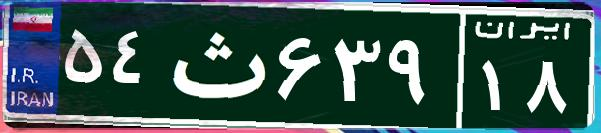1: (475, 38, 525, 113)
3: (330, 28, 385, 110)
4: (110, 28, 158, 105)
5: (57, 26, 110, 107)
6: (273, 28, 330, 110)
8: (525, 38, 570, 115)
9: (385, 28, 445, 110)
ث: (158, 15, 273, 115)
